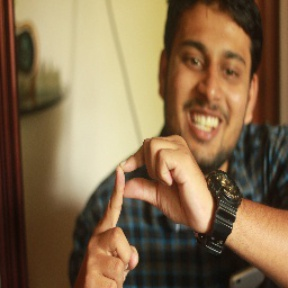P: (82, 131, 198, 288)
